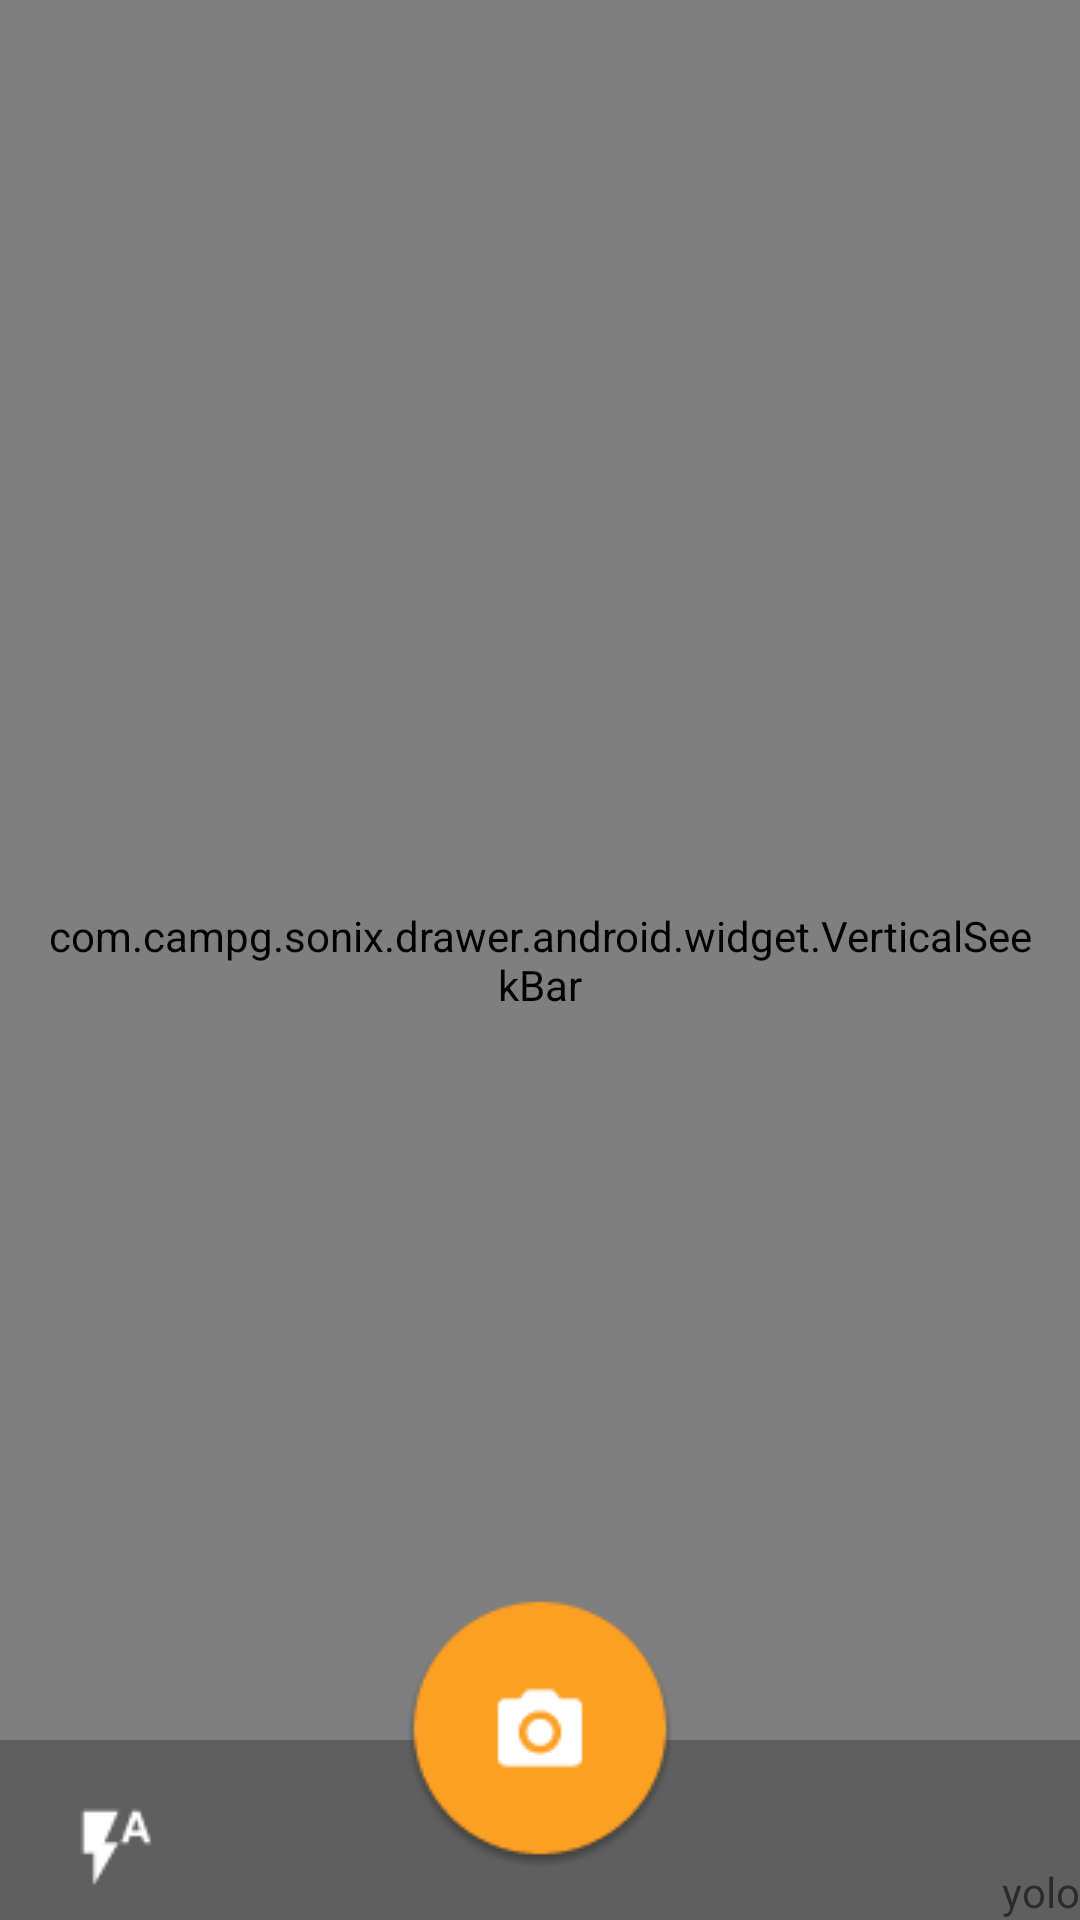

Icons on this 1080 x 1920 Android screen, each with its box as {"x1": x1, "y1": y1, "x2": x2, "y2": y2}:
flash auto: {"x1": 81, "y1": 1809, "x2": 151, "y2": 1885}
